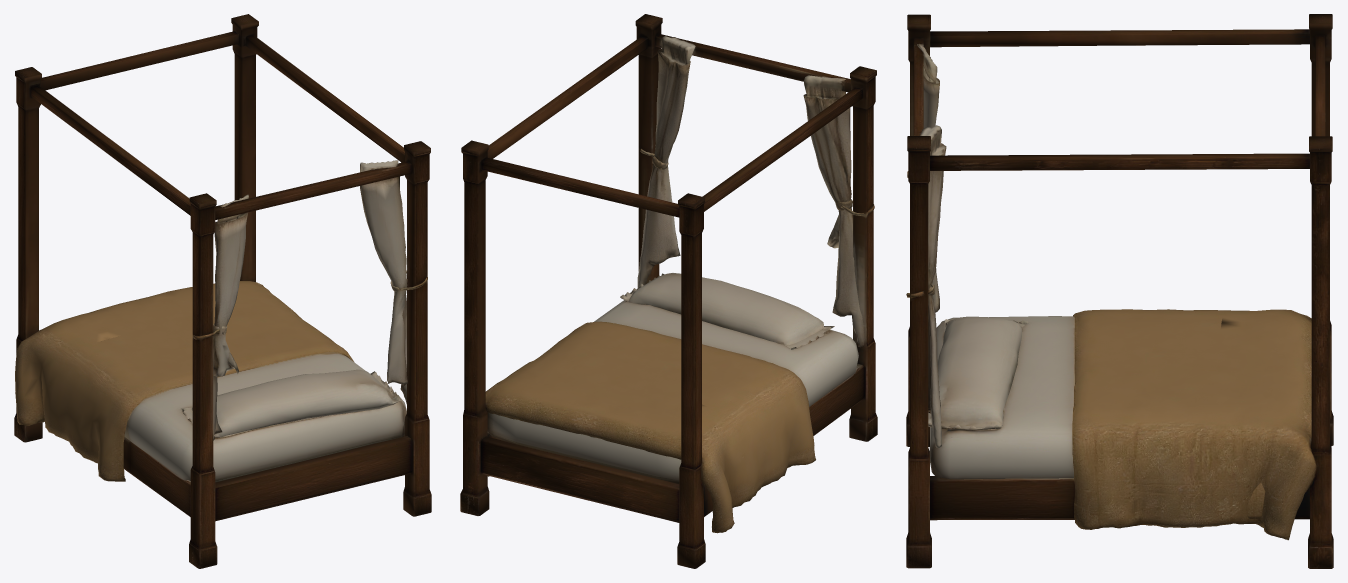
3 views of the same model, side by side, from view 1: azimuth 30°, elevation 25°; view 2: azimuth 150°, elevation 25°; view 3: azimuth 270°, elevation 25° (orthographic). The views are drawn at different scales.
Visible parts, largest first — view 1: tripo_node_56b6fb40-ff4f-4699-86d7-93f61c831ff5; view 2: tripo_node_56b6fb40-ff4f-4699-86d7-93f61c831ff5; view 3: tripo_node_56b6fb40-ff4f-4699-86d7-93f61c831ff5.
Boxes of the visible parts, left/top/right/bottom form: tripo_node_56b6fb40-ff4f-4699-86d7-93f61c831ff5: left=14, top=14, right=431, bottom=568; tripo_node_56b6fb40-ff4f-4699-86d7-93f61c831ff5: left=460, top=14, right=877, bottom=568; tripo_node_56b6fb40-ff4f-4699-86d7-93f61c831ff5: left=906, top=14, right=1333, bottom=568.
Size of the model in its own units: 0.752 by 0.998 by 0.916.
1 material, 1 textured.
